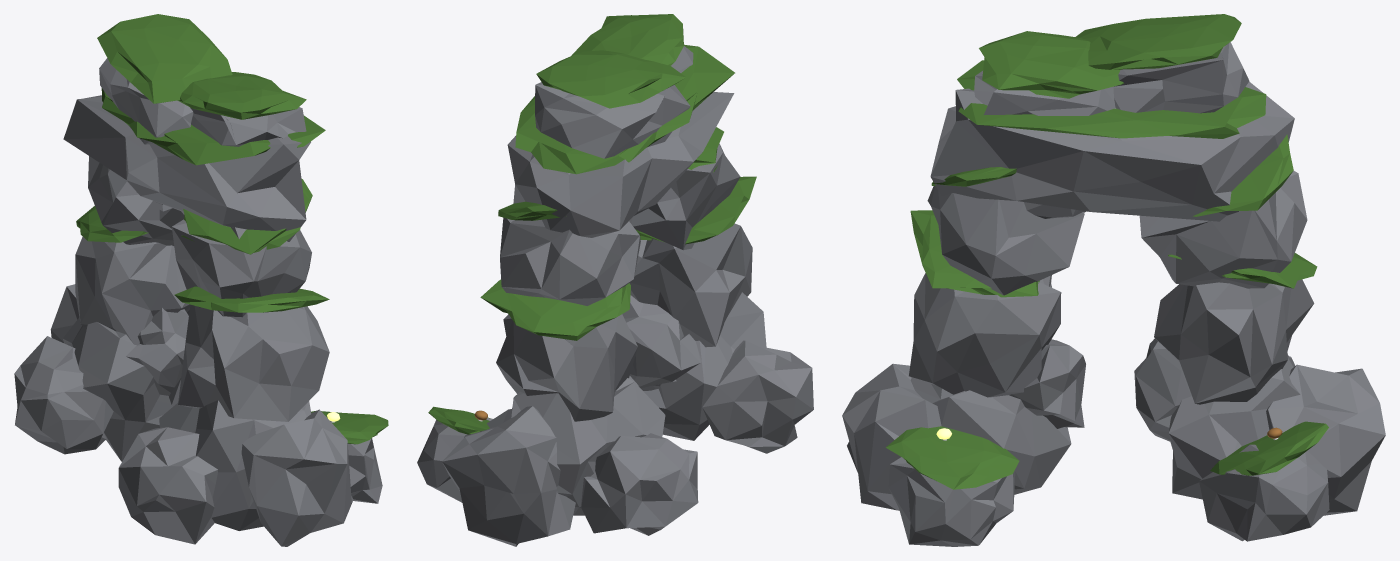
File: cave-mouth-arch.glb
3 renders of one model, left to right at view 1: azimuth 30°, elevation 25°; view 2: azimuth 150°, elevation 25°; view 3: azimuth 270°, elevation 25°, orthographic. The views are drawn at different scales.
Parts seen in each view (by area): view 1: Mesh_LintelMain, Mesh_RightMidStone, Mesh_RightBaseStone2, Mesh_BackRightBase, Mesh_LeftMidStone, Mesh_BackLeftBase, Mesh_LintelTopMoss1, Mesh_LeftBaseStone1, Mesh_RightTopStone, Mesh_RightBaseStone1, Mesh_LeftTopStone, Mesh_LintelTopMoss2 (+10 smaller); view 2: Mesh_LeftBaseStone2, Mesh_LintelMain, Mesh_LeftMidStone, Mesh_RightMidStone, Mesh_LeftTopStone, Mesh_BackLeftBase, Mesh_BackRightBase, Mesh_LeftBaseStone1, Mesh_LintelTop1, Mesh_RightBaseStone1, Mesh_LintelMainMoss, Mesh_LintelTopMoss1 (+9 smaller); view 3: Mesh_LintelMain, Mesh_LeftMidStone, Mesh_RightMidStone, Mesh_RightTopStone, Mesh_LeftTopStone, Mesh_LeftBaseStone2, Mesh_FrontLeftBase, Mesh_LintelMainMoss, Mesh_RightBaseStone2, Mesh_LeftBaseStone1, Mesh_RightBaseStone1, Mesh_FrontRightBase (+12 smaller).
Boxes of the visible parts, <box> form: Mesh_LintelMain: <box>63,95,310,241</box>; Mesh_RightMidStone: <box>178,304,329,421</box>; Mesh_RightBaseStone2: <box>241,409,353,546</box>; Mesh_BackRightBase: <box>118,427,217,544</box>; Mesh_LeftMidStone: <box>75,236,190,345</box>; Mesh_BackLeftBase: <box>14,336,113,454</box>; Mesh_LintelTopMoss1: <box>97,14,232,103</box>; Mesh_LeftBaseStone1: <box>62,317,172,461</box>; Mesh_RightTopStone: <box>172,219,311,317</box>; Mesh_RightBaseStone1: <box>159,400,311,530</box>; Mesh_LeftTopStone: <box>88,156,184,245</box>; Mesh_LintelTopMoss2: <box>178,72,306,119</box>; Mesh_LeftBaseStone2: <box>442,406,575,546</box>; Mesh_LintelMain: <box>507,92,734,237</box>; Mesh_LeftMidStone: <box>496,314,637,421</box>; Mesh_RightMidStone: <box>629,223,752,347</box>; Mesh_LeftTopStone: <box>500,217,640,305</box>; Mesh_BackLeftBase: <box>581,433,698,535</box>; Mesh_BackRightBase: <box>702,340,813,453</box>; Mesh_LeftBaseStone1: <box>511,378,665,515</box>; Mesh_LintelTop1: <box>535,82,690,158</box>; Mesh_RightBaseStone1: <box>643,292,766,440</box>; Mesh_LintelMainMoss: <box>515,44,734,174</box>; Mesh_LintelTopMoss1: <box>536,50,685,108</box>; Mesh_LintelMain: <box>930,81,1294,221</box>; Mesh_LeftMidStone: <box>1154,279,1314,404</box>; Mesh_RightMidStone: <box>909,273,1061,397</box>; Mesh_RightTopStone: <box>927,186,1084,295</box>; Mesh_LeftTopStone: <box>1139,171,1307,288</box>; Mesh_LeftBaseStone2: <box>1266,364,1385,515</box>; Mesh_FrontLeftBase: <box>1199,444,1329,541</box>; Mesh_LintelMainMoss: <box>957,60,1266,138</box>; Mesh_RightBaseStone2: <box>842,363,941,510</box>; Mesh_LeftBaseStone1: <box>1168,354,1300,499</box>; Mesh_RightBaseStone1: <box>910,377,1071,494</box>; Mesh_FrontRightBase: <box>888,457,1015,546</box>.
Bounding box in the file's own units: 2.3 × 3.69 × 3.77.
Materials: 2 (2 with a texture image).
